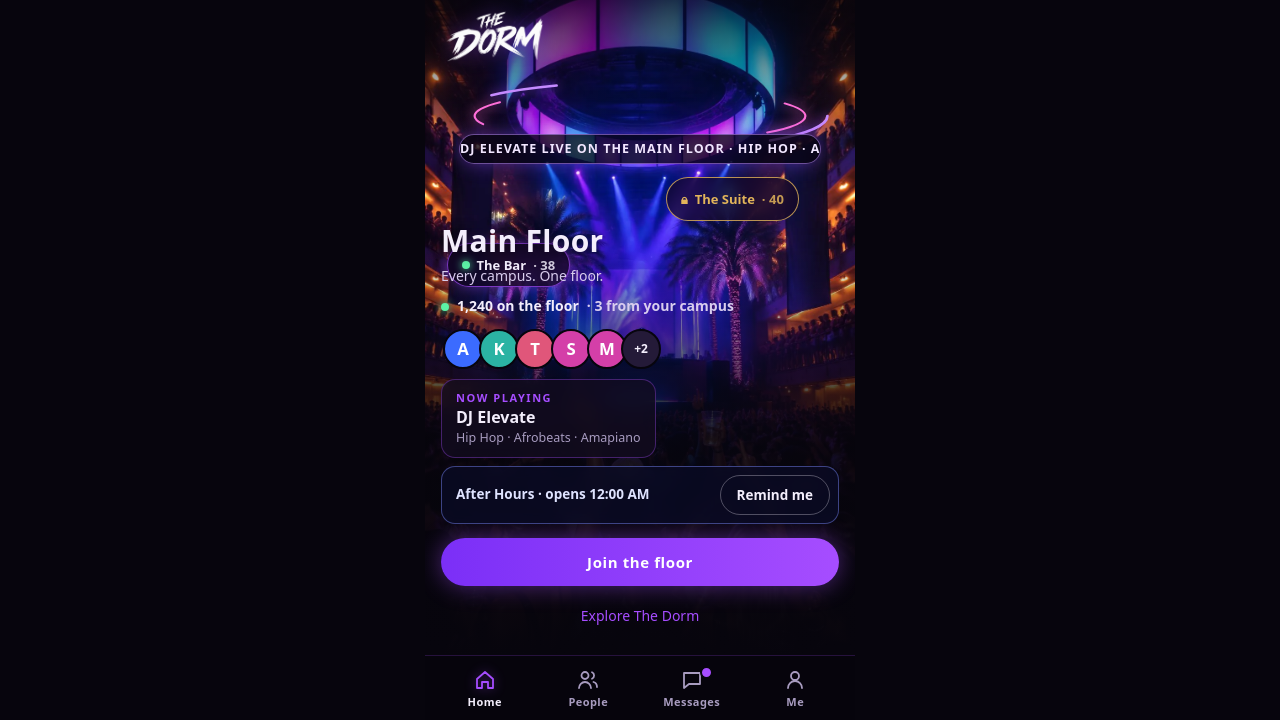
Test: a pass but The Suite is full: the waitlist only
Click the button "🔒︎ The Suite · 40".
click(732, 199)  # box [666,177,799,221]
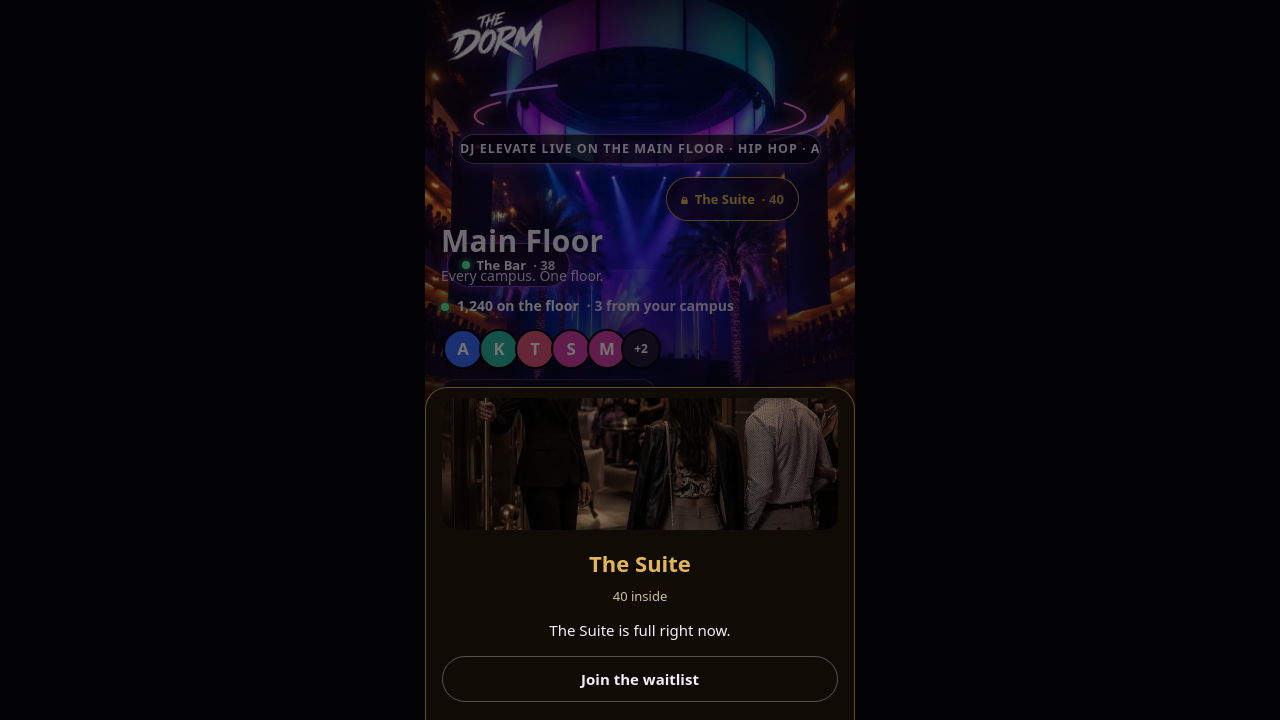
Expected: the text "The Suite is full right now." is shown, [549,620,731,642]
Expected: the button "Join the waitlist" is shown, [442,656,838,702]
